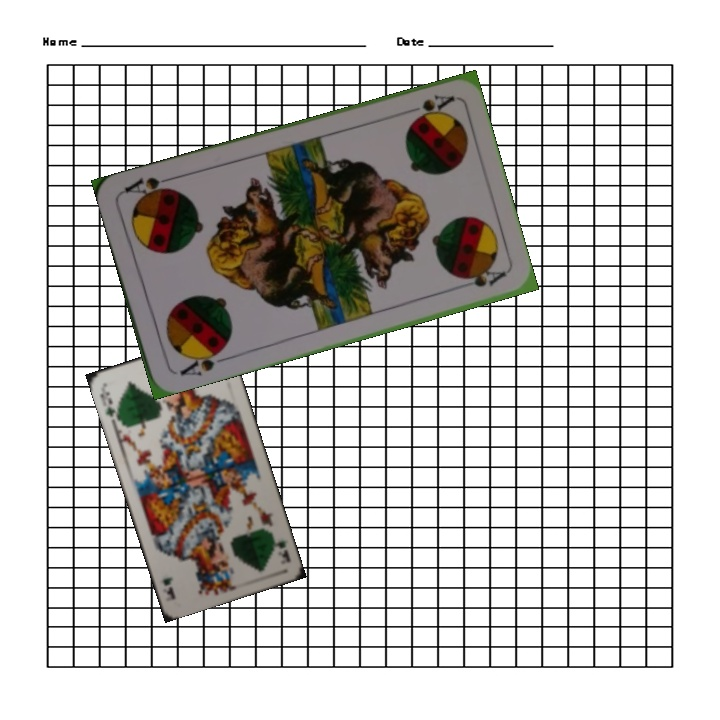GK: (96, 384, 123, 422), (271, 536, 293, 565)
SA: (176, 343, 230, 379), (399, 90, 457, 123)
